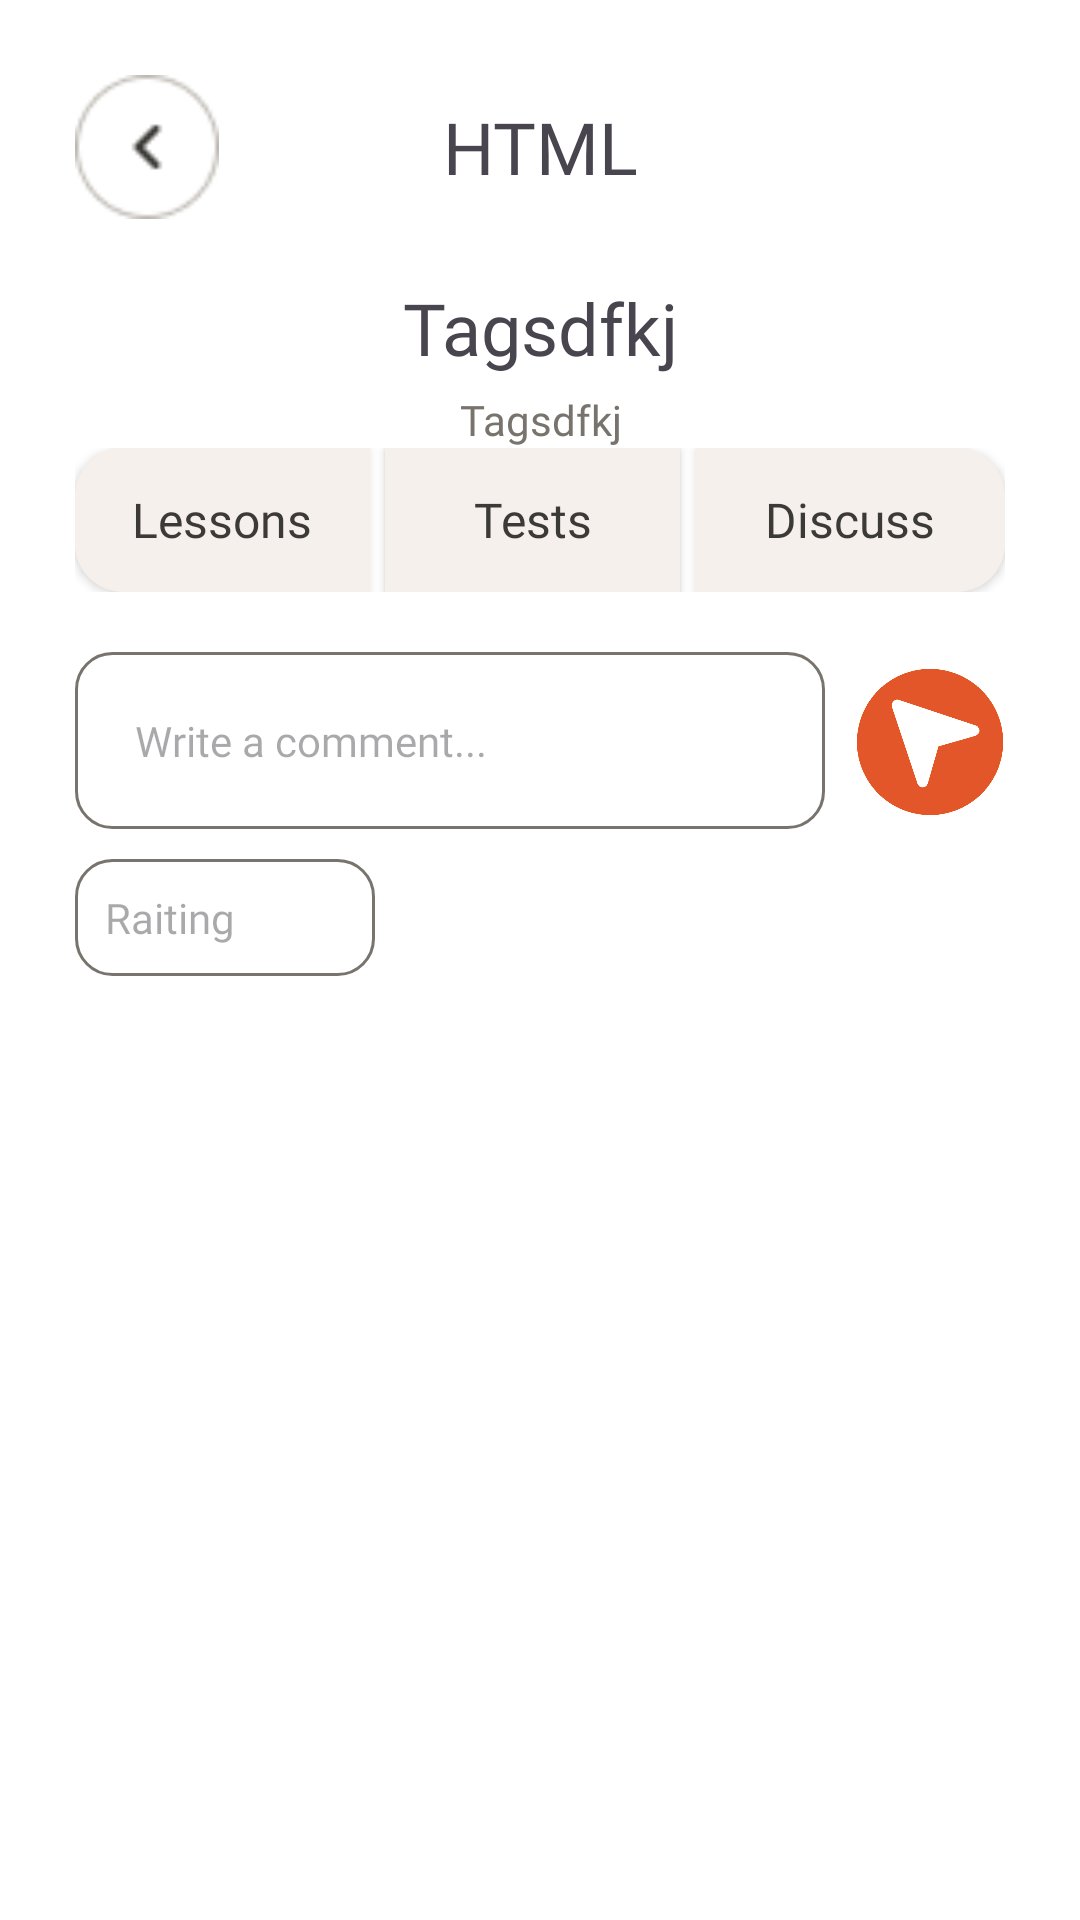

Point at icon controls on the screen. Image size 1080*1920, points as (x=x, y=y).
send: (x=930, y=742)
